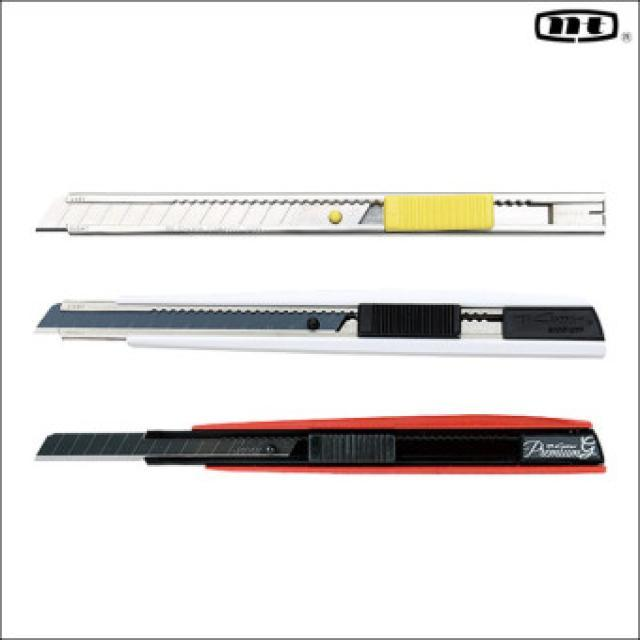cutter: (18, 286, 612, 380), (19, 173, 611, 256), (25, 410, 616, 490)
